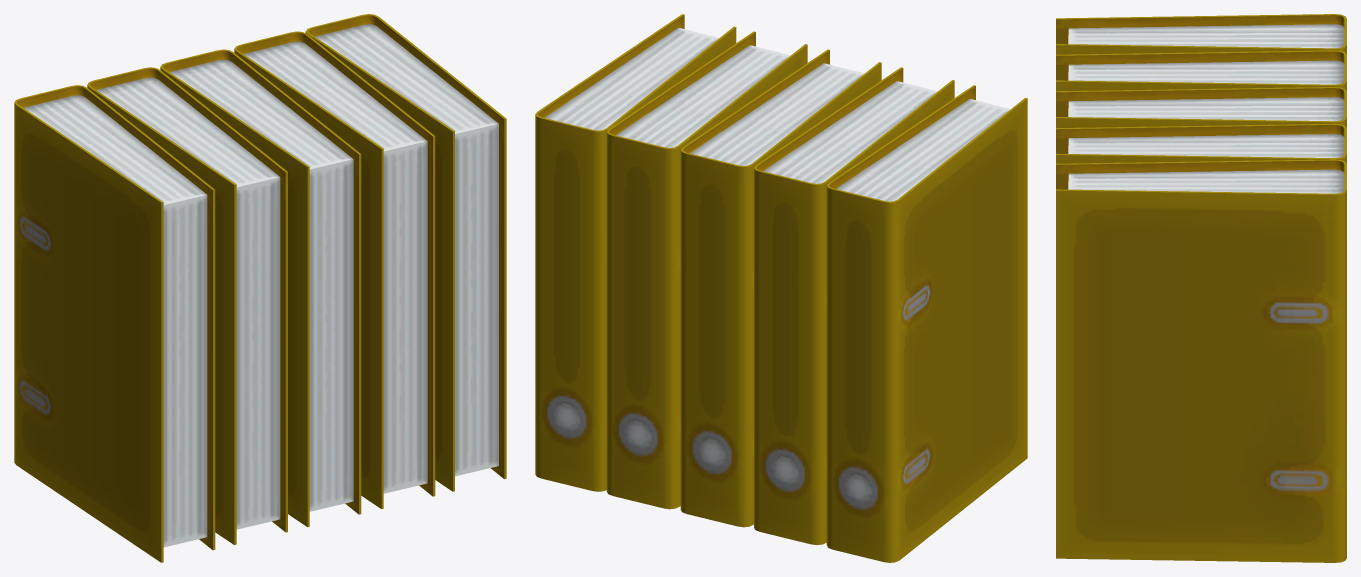
Rendered from OfficeDeskSet02__10.fbx.
3 renders of one model, left to right at view 1: azimuth 30°, elevation 25°; view 2: azimuth 150°, elevation 25°; view 3: azimuth 270°, elevation 25°, orthographic. The views are drawn at different scales.
Visible parts, largest first — view 1: OfficeDeskSet02; view 2: OfficeDeskSet02; view 3: OfficeDeskSet02.
Part boxes in pixels (x1,y1,x2,y2): OfficeDeskSet02: [14, 14, 506, 562]; OfficeDeskSet02: [535, 14, 1027, 562]; OfficeDeskSet02: [1056, 14, 1346, 562].
Size of the model in its own units: 0.3266 by 0.31 by 0.2221.
Materials: 1 (1 with a texture image).
